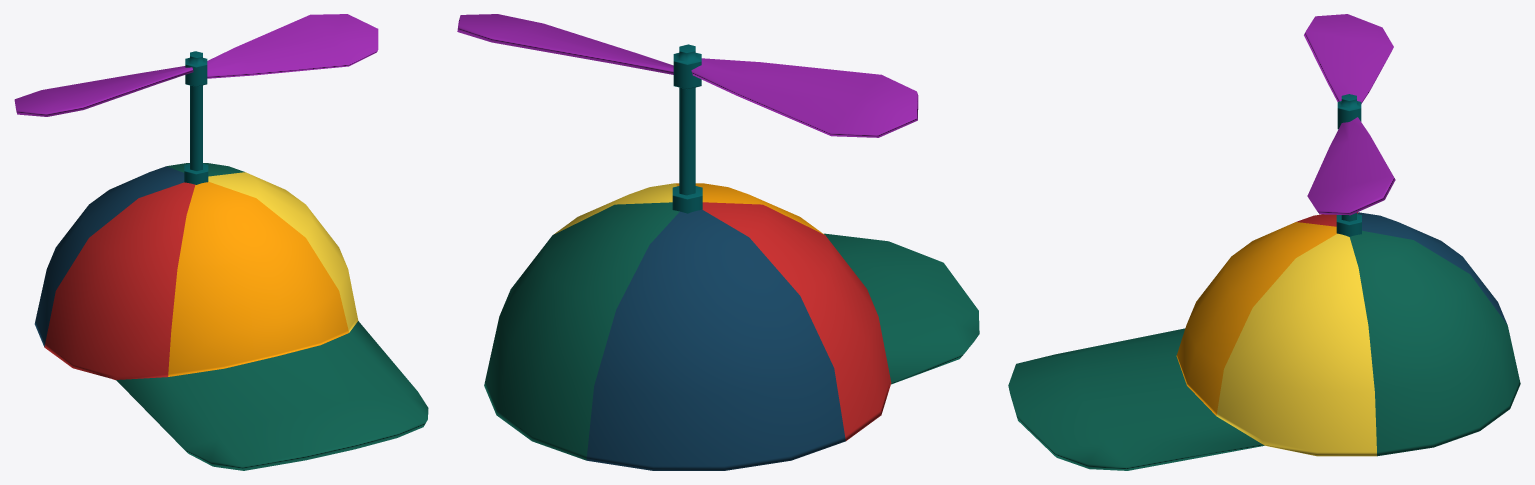
Rendered from pinwheel_cap.fbx.
3 views of the same model, side by side, from view 1: azimuth 30°, elevation 25°; view 2: azimuth 150°, elevation 25°; view 3: azimuth 270°, elevation 25° (orthographic). The views are drawn at different scales.
Parts seen in each view (by area): view 1: pinwheel_cap_base, rotate; view 2: pinwheel_cap_base, rotate; view 3: pinwheel_cap_base, rotate.
Boxes of the visible parts, box(x1,y1,x2,y2) form: pinwheel_cap_base: box(34, 163, 428, 470); rotate: box(14, 14, 378, 184); pinwheel_cap_base: box(484, 183, 979, 470); rotate: box(457, 14, 918, 213); pinwheel_cap_base: box(1008, 212, 1520, 470); rotate: box(1304, 14, 1395, 236).
Bounding box in the file's own units: 174 × 137 × 200.
